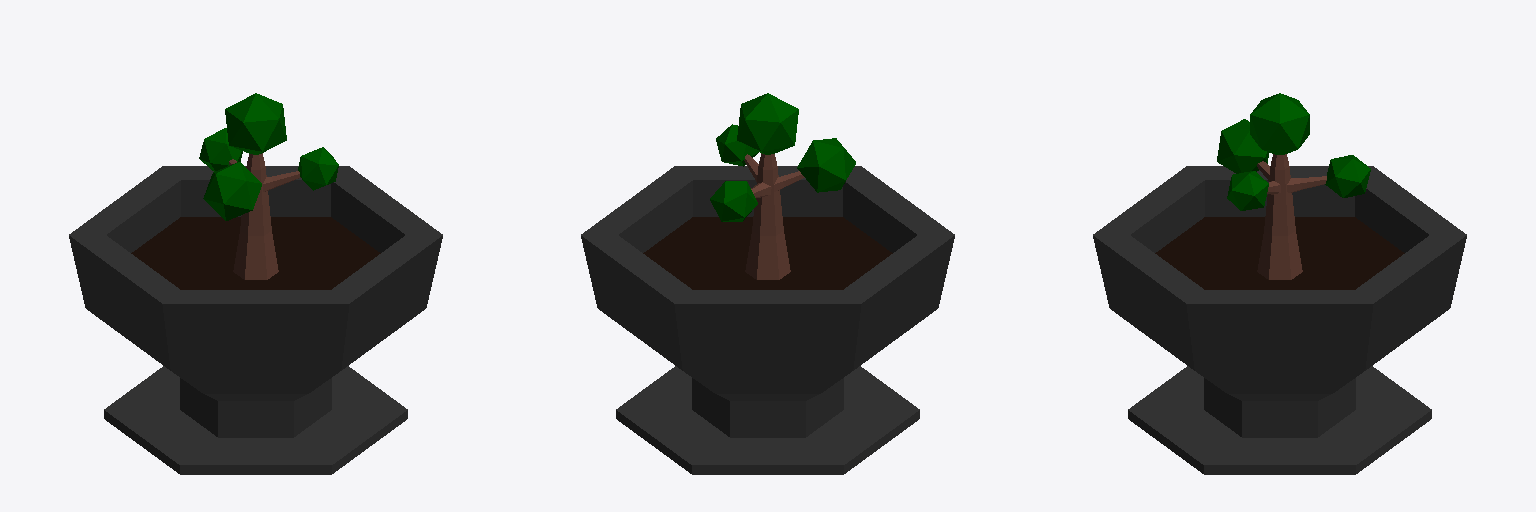
Rendered from potted_tree.obj.
3 views of the same model, side by side, from view 1: azimuth 30°, elevation 25°; view 2: azimuth 150°, elevation 25°; view 3: azimuth 270°, elevation 25° (orthographic).
Parts seen in each view (by area): view 1: pot_Circle, dirt_Circle.001, Icosphere, Icosphere.003, trunk_Circle.002, Icosphere.002, Icosphere.001, branch_1_Circle.003, branch_2_Circle.005; view 2: pot_Circle, dirt_Circle.001, Icosphere, Icosphere.003, trunk_Circle.002, Icosphere.001, branch_1_Circle.003, Icosphere.002, branch_2_Circle.005; view 3: pot_Circle, dirt_Circle.001, Icosphere, Icosphere.003, trunk_Circle.002, Icosphere.001, Icosphere.002, branch_2_Circle.005, branch_1_Circle.003, branch_3_Circle.004.
Boxes of the visible parts, box(x1,y1,x2,y2) form: pot_Circle: box(69, 166, 442, 474); dirt_Circle.001: box(131, 217, 380, 289); Icosphere: box(225, 93, 286, 154); Icosphere.003: box(203, 162, 261, 220); trunk_Circle.002: box(233, 153, 271, 279); Icosphere.002: box(298, 147, 338, 190); Icosphere.001: box(199, 128, 242, 171); branch_1_Circle.003: box(229, 159, 271, 279); branch_2_Circle.005: box(240, 166, 300, 235); pot_Circle: box(581, 166, 954, 474); dirt_Circle.001: box(643, 217, 892, 289); Icosphere: box(737, 93, 798, 154); Icosphere.003: box(797, 138, 855, 192); trunk_Circle.002: box(745, 153, 790, 279); Icosphere.001: box(710, 181, 757, 221); branch_1_Circle.003: box(751, 166, 790, 279); Icosphere.002: box(716, 124, 758, 166); branch_2_Circle.005: box(744, 154, 783, 235); pot_Circle: box(1093, 166, 1466, 474); dirt_Circle.001: box(1155, 217, 1404, 289); Icosphere: box(1250, 93, 1309, 154); Icosphere.003: box(1217, 119, 1268, 173); trunk_Circle.002: box(1259, 154, 1302, 279); Icosphere.001: box(1325, 155, 1370, 197); Icosphere.002: box(1227, 171, 1268, 210); branch_2_Circle.005: box(1264, 166, 1289, 279); branch_1_Circle.003: box(1264, 166, 1326, 235); branch_3_Circle.004: box(1257, 161, 1286, 279).
Bounding box in the file's own units: 0.6402 × 0.7089 × 0.7392.